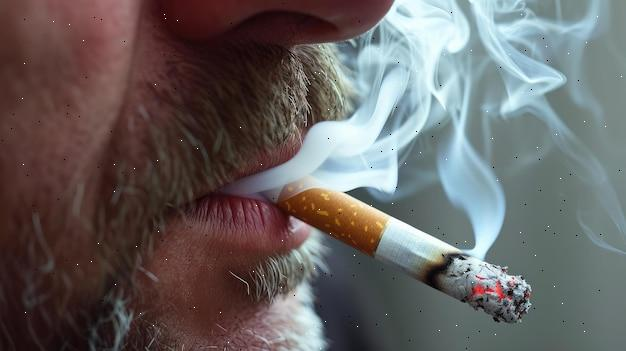cigarette: (265, 178, 530, 322)
